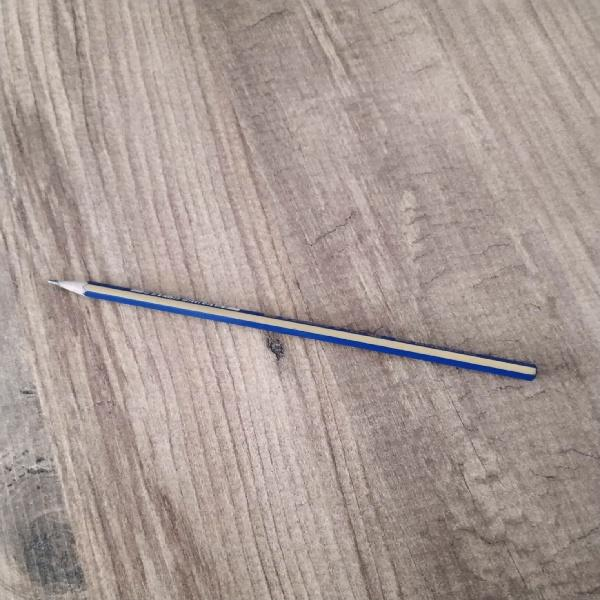pencil: (50, 280, 536, 380)
